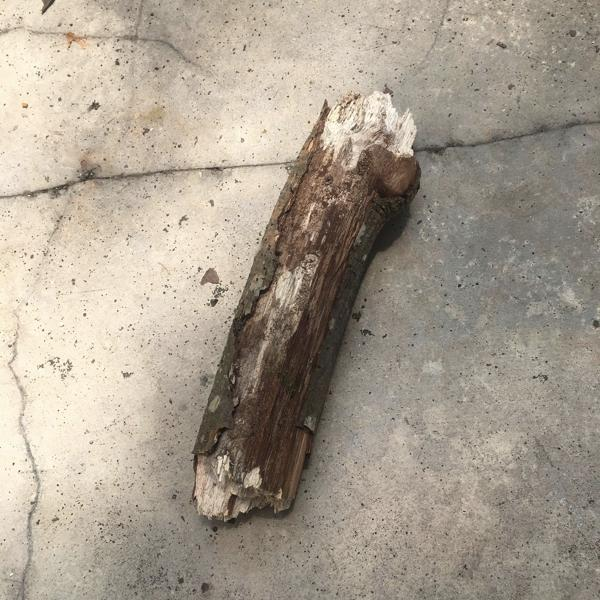Organik: (189, 59, 424, 533)
